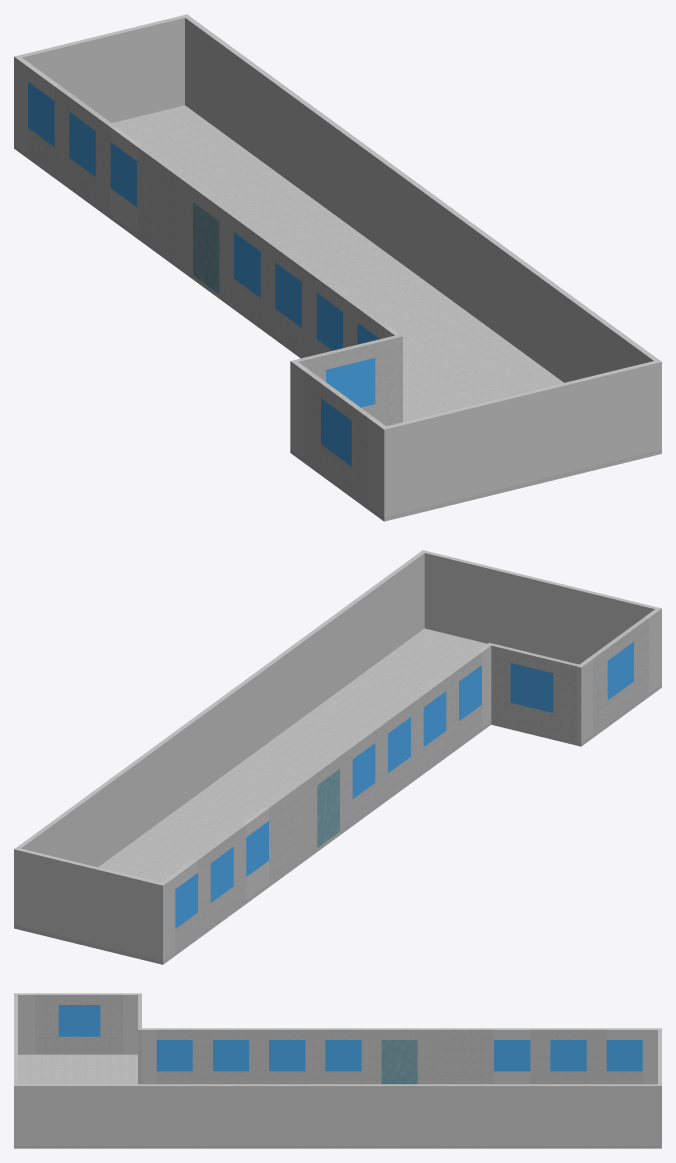
The model's file is Backwash_Pump_House_expansion.glb.
The picture shows the model from 3 angles, top to bottom: view 1: azimuth 30°, elevation 25°; view 2: azimuth 150°, elevation 25°; view 3: azimuth 270°, elevation 25°; orthographic projection. The views are drawn at different scales.
Parts seen in each view (by area): view 1: Floor1; view 2: Floor1; view 3: Floor1.
Boxes of the visible parts, box(x1,y1,x2,y2) form: Floor1: box(14, 14, 661, 521); Floor1: box(14, 550, 661, 964); Floor1: box(14, 993, 661, 1148).
Size of the model in its own units: 13.28 by 4.2 by 39.3.
Materials: 3 (3 with a texture image).
